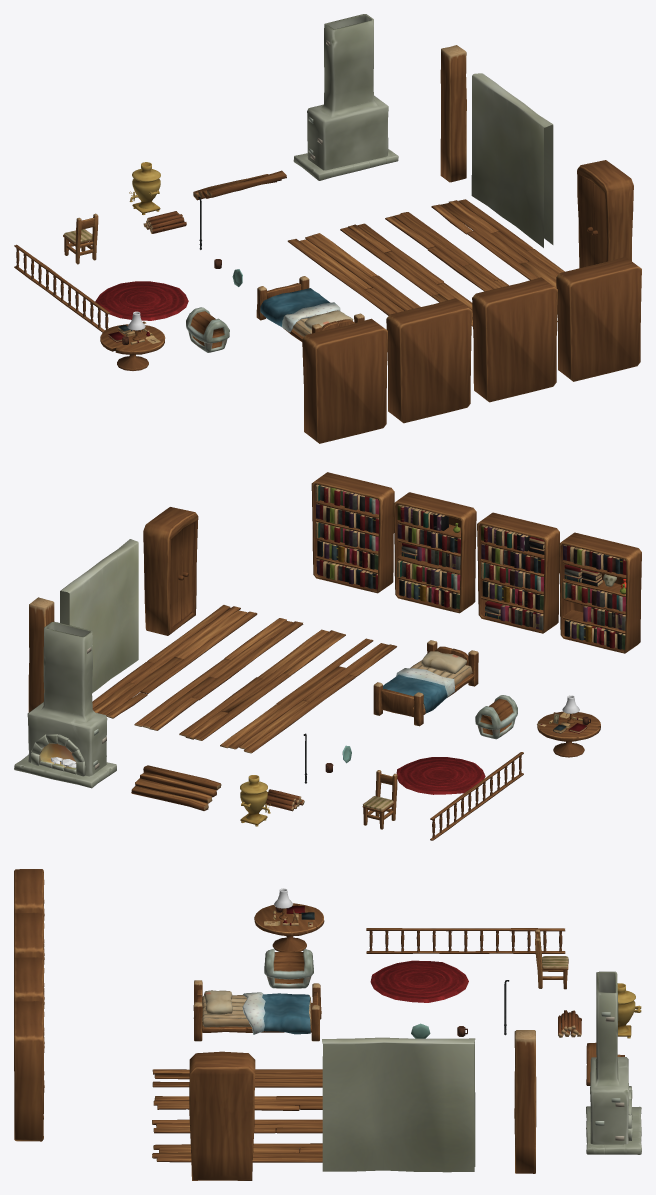
The model's file is FurnitureItems.fbx.
3 renders of one model, top to bottom at view 1: azimuth 30°, elevation 25°; view 2: azimuth 150°, elevation 25°; view 3: azimuth 270°, elevation 25°, orthographic. The views are drawn at different scales.
Visible parts, largest first — view 1: wall, furnace, bookshelf.003, bookshelf.002, bookshelf.004, bookshelf.001, cupboard, planks4, bed, wall_planks, planks1, rug (+9 smaller); view 2: furnace, bookshelf.003, bookshelf.004, bookshelf.002, bookshelf.001, wall, cupboard, bed, planks4, planks1, planks3, planks2 (+9 smaller); view 3: wall, cupboard, furnace, bed, bookshelf.004, rug, wall_planks, railings, planks4, planks1, table, chest (+8 smaller).
Part boxes in pixels (<box>): wall: <box>471,73,553,247</box>; furnace: <box>293,14,398,180</box>; bookshelf.003: <box>472,277,557,402</box>; bookshelf.002: <box>302,318,387,443</box>; bookshelf.004: <box>556,256,641,381</box>; bookshelf.001: <box>386,298,471,423</box>; cupboard: <box>577,160,633,268</box>; planks4: <box>431,199,564,288</box>; bed: <box>256,276,364,341</box>; wall_planks: <box>440,45,466,182</box>; planks1: <box>287,233,420,315</box>; rug: <box>95,281,188,320</box>; furnace: <box>14,621,116,788</box>; bookshelf.003: <box>393,492,476,613</box>; bookshelf.004: <box>311,472,394,593</box>; bookshelf.002: <box>559,532,641,653</box>; bookshelf.001: <box>477,512,559,633</box>; wall: <box>60,539,138,692</box>; cupboard: <box>143,507,198,635</box>; bed: <box>373,640,478,726</box>; planks4: <box>92,605,257,718</box>; planks1: <box>220,638,396,753</box>; planks3: <box>134,618,303,730</box>; planks2: <box>179,629,345,740</box>; wall: <box>322,1037,475,1172</box>; cupboard: <box>189,1051,255,1180</box>; furnace: <box>586,971,641,1154</box>; bed: <box>193,980,321,1041</box>; bookshelf.004: <box>14,1001,44,1141</box>; rug: <box>370,960,468,1002</box>; wall_planks: <box>514,1030,536,1173</box>; railings: <box>366,928,565,953</box>; planks4: <box>152,1143,322,1162</box>; planks1: <box>152,1069,322,1087</box>; table: <box>254,903,324,951</box>; chest: <box>264,949,313,988</box>.
Size of the model in its own units: 1929 by 577 by 2036.
7 materials, 5 textured.
